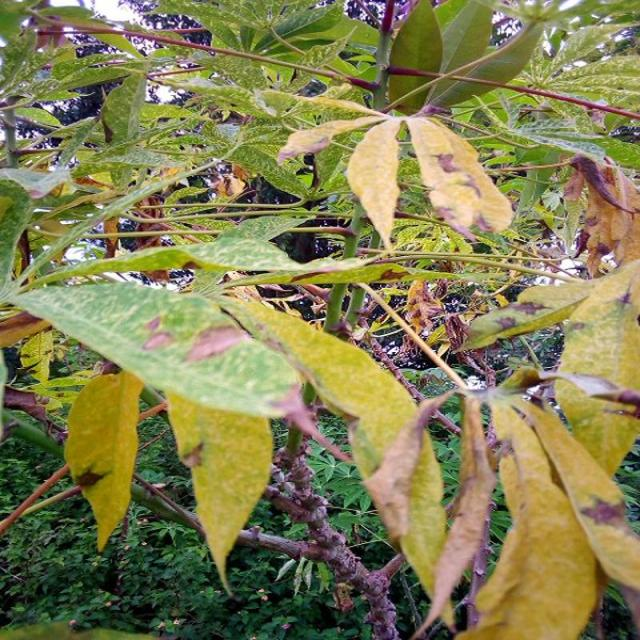cassava leaf: (214, 292, 450, 612), (11, 279, 302, 418), (164, 388, 274, 598), (62, 368, 144, 553)
